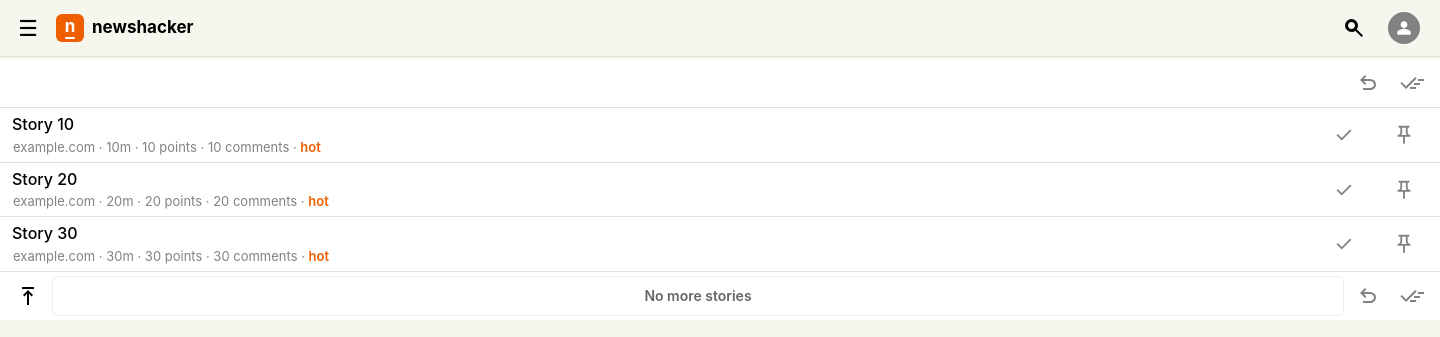
it: <StoryList> hidden-story handling › undo restores the single story hidden by a swipe
Press the mouse on the element with test id "story-row" that starts with "Story 20" at (720, 190), box [0,163,1439,216]
Wait 300 ms
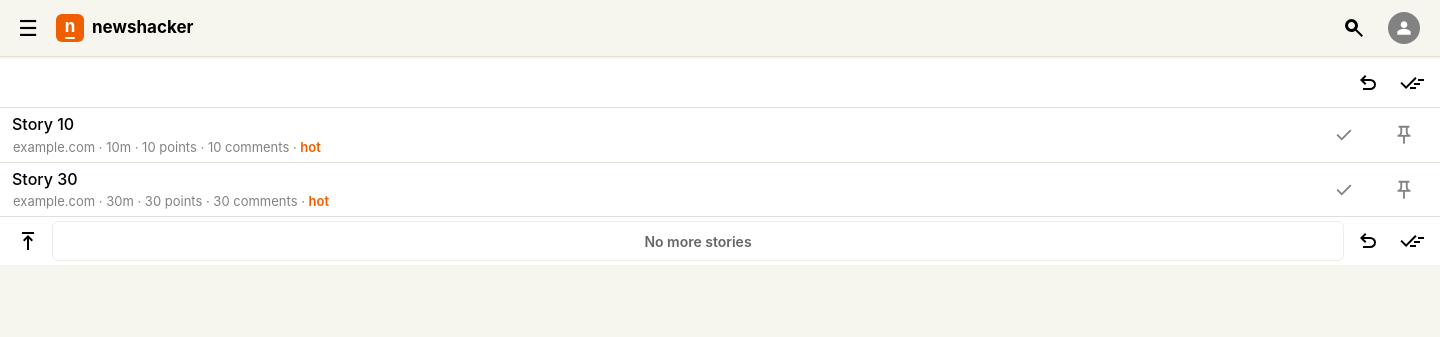
expect the link "Story 20" is gone: met
Click the button with test id "undo-btn" at (1368, 83), box [1348,63,1388,103]
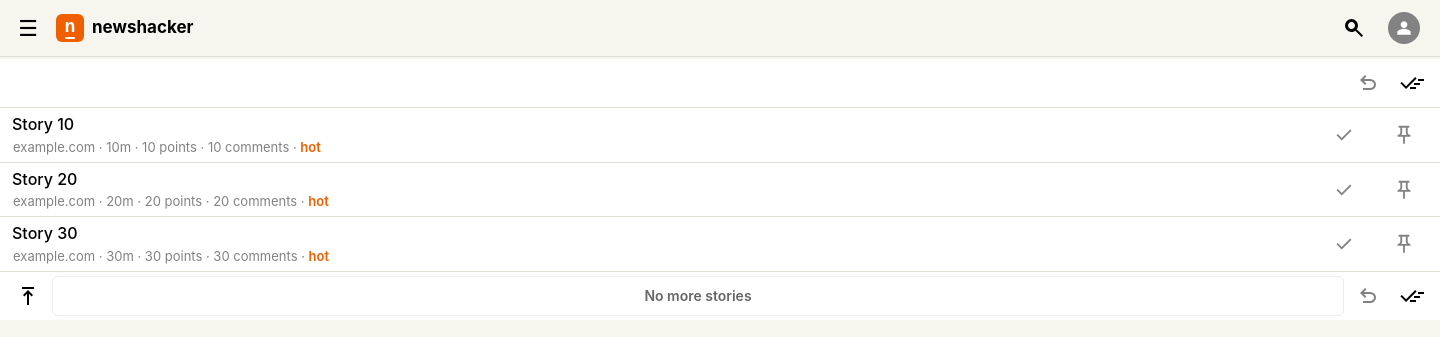
expect the text "Story 20" is shown: met, box [12,169,77,189]
